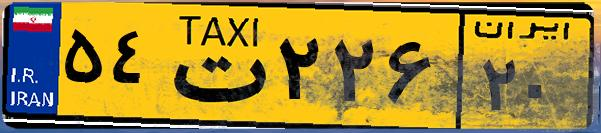0: (525, 38, 570, 115)
2: (270, 28, 330, 110), (330, 28, 385, 110), (475, 38, 525, 113)
4: (110, 28, 158, 98)
5: (57, 26, 110, 100)
6: (385, 28, 445, 110)
ت: (158, 12, 270, 120)
